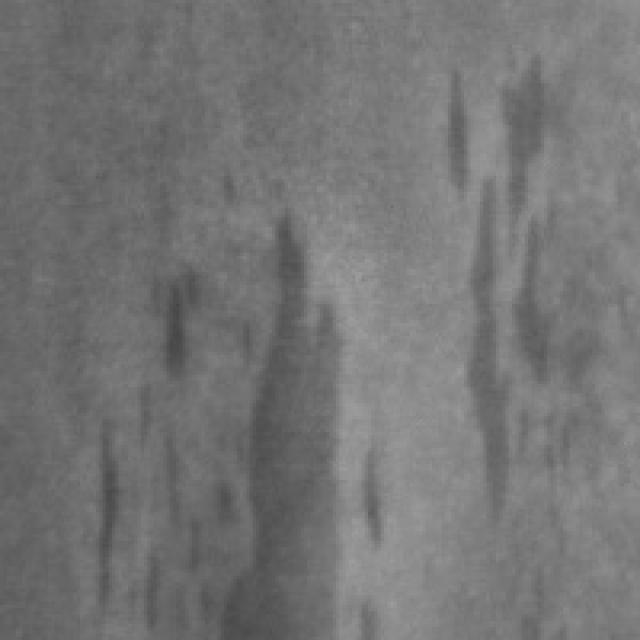inclusion: (192, 195, 400, 637), (445, 38, 608, 544), (96, 378, 240, 636), (144, 250, 218, 384)
